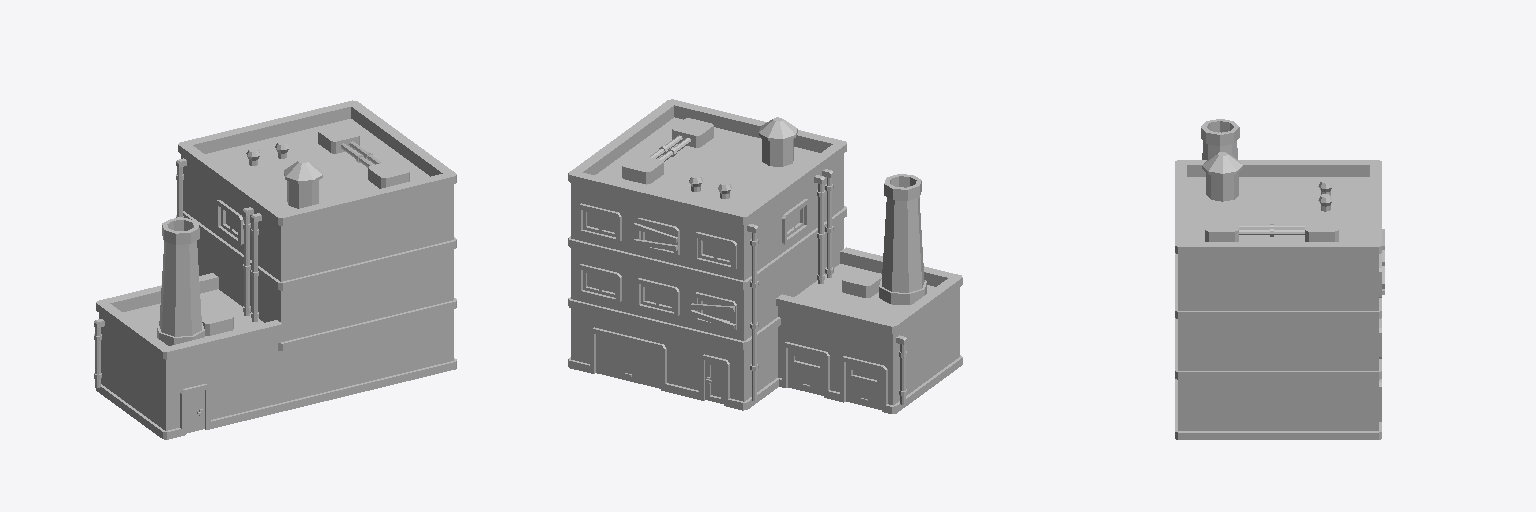
Rendered from industrial_building-b.obj.
3 views of the same model, side by side, from view 1: azimuth 30°, elevation 25°; view 2: azimuth 150°, elevation 25°; view 3: azimuth 270°, elevation 25° (orthographic).
Parts seen in each view (by area): view 1: building-b; view 2: building-b; view 3: building-b.
Part boxes in pixels (x1,y1,x2,y2): building-b: (94,100,456,439); building-b: (568,99,962,413); building-b: (1175,119,1384,439).
Size of the model in its own units: 2.08 by 1.47 by 1.26.